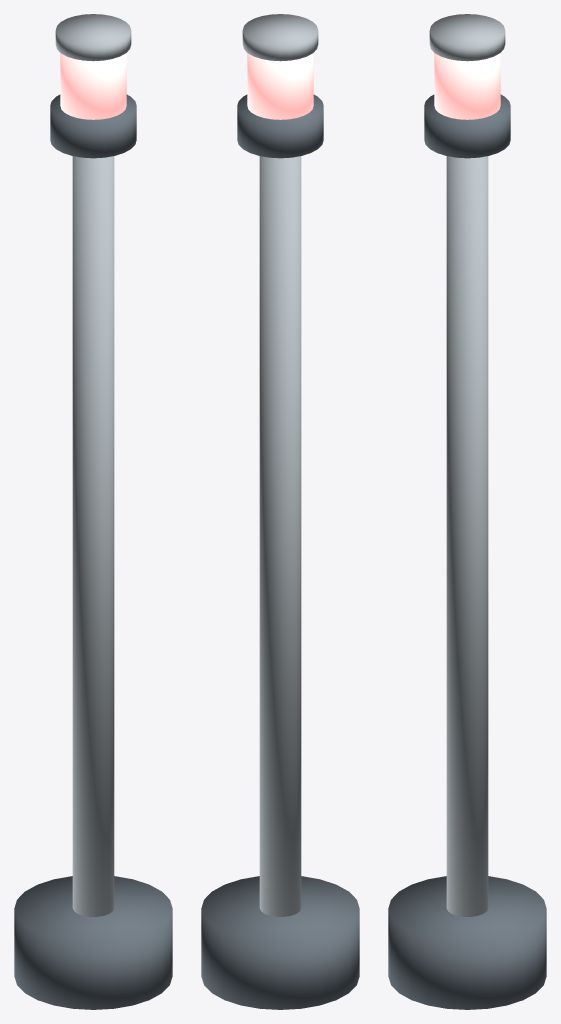
The model's file is alarm_tower_enhanced.glb.
3 views of the same model, side by side, from view 1: azimuth 30°, elevation 25°; view 2: azimuth 150°, elevation 25°; view 3: azimuth 270°, elevation 25° (orthographic).
Parts seen in each view (by area): view 1: Pole_steel, Base_dark, StatusLight_alarm, Beacon_dark, Beacon_steel; view 2: Pole_steel, Base_dark, StatusLight_alarm, Beacon_dark, Beacon_steel; view 3: Pole_steel, Base_dark, StatusLight_alarm, Beacon_dark, Beacon_steel.
Boxes of the visible parts, x1,y1,x2,y2 form: Pole_steel: [72, 156, 114, 916]; Base_dark: [14, 876, 172, 1009]; StatusLight_alarm: [60, 53, 126, 119]; Beacon_dark: [50, 94, 136, 158]; Beacon_steel: [55, 14, 131, 61]; Pole_steel: [259, 156, 301, 916]; Base_dark: [201, 876, 359, 1009]; StatusLight_alarm: [247, 53, 313, 119]; Beacon_dark: [237, 94, 323, 158]; Beacon_steel: [242, 14, 318, 61]; Pole_steel: [446, 156, 488, 916]; Base_dark: [388, 876, 546, 1009]; StatusLight_alarm: [434, 53, 500, 119]; Beacon_dark: [424, 94, 510, 158]; Beacon_steel: [429, 14, 505, 61].
Bounding box in the file's own units: 0.42 × 2.77 × 0.42.
